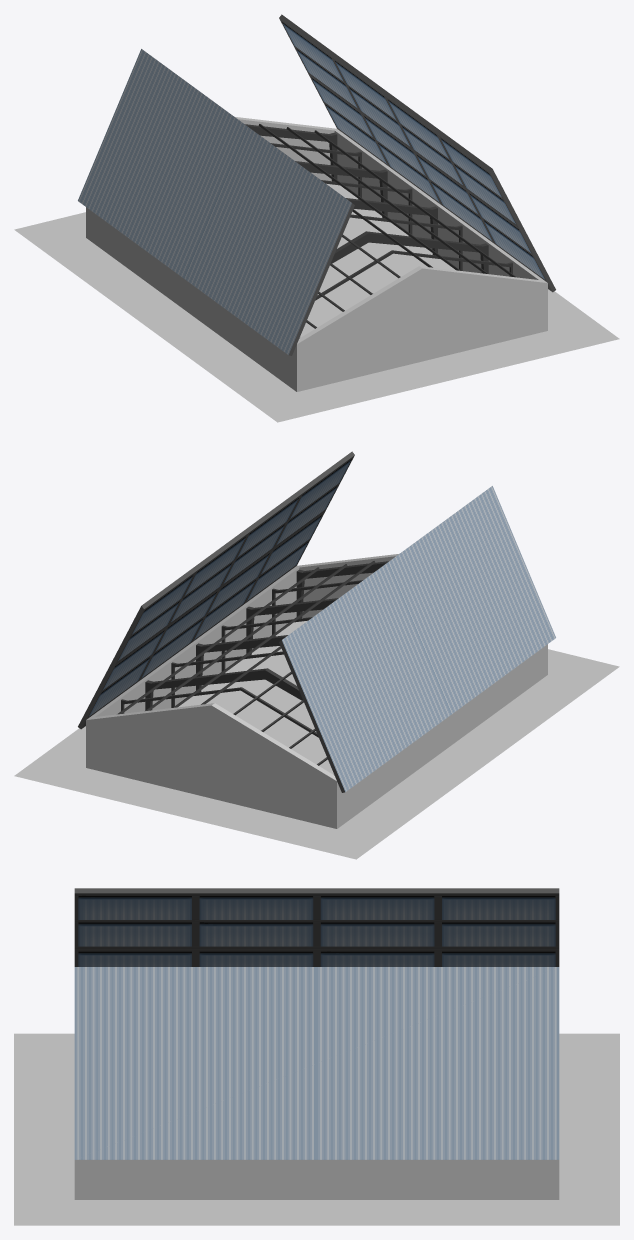
Rendered from Werehouse_group.fbx.
The picture shows the model from 3 angles, top to bottom: view 1: azimuth 30°, elevation 25°; view 2: azimuth 150°, elevation 25°; view 3: azimuth 270°, elevation 25°; orthographic projection. The views are drawn at different scales.
Parts seen in each view (by area): view 1: Werehouse_Ceilng1, Werehouse_Wall1, Werehouse_tile1, SteelFrame1; view 2: Werehouse_Ceilng1, Werehouse_Wall1, Werehouse_tile1, SteelFrame1; view 3: Werehouse_Ceilng1, Werehouse_tile1, Werehouse_Wall1.
Part boxes in pixels (x1,y1,x2,y2): Werehouse_Ceilng1: [78, 14, 555, 355]; Werehouse_Wall1: [86, 117, 547, 391]; Werehouse_tile1: [14, 181, 619, 422]; SteelFrame1: [245, 124, 516, 338]; Werehouse_Ceilng1: [78, 451, 555, 792]; Werehouse_Wall1: [86, 554, 547, 828]; Werehouse_tile1: [14, 618, 619, 859]; SteelFrame1: [117, 561, 388, 775]; Werehouse_Ceilng1: [74, 888, 559, 1159]; Werehouse_tile1: [14, 1033, 619, 1225]; Werehouse_Wall1: [74, 1160, 559, 1199].
Bounding box in the file's own units: 6000 × 2942 × 8000.
